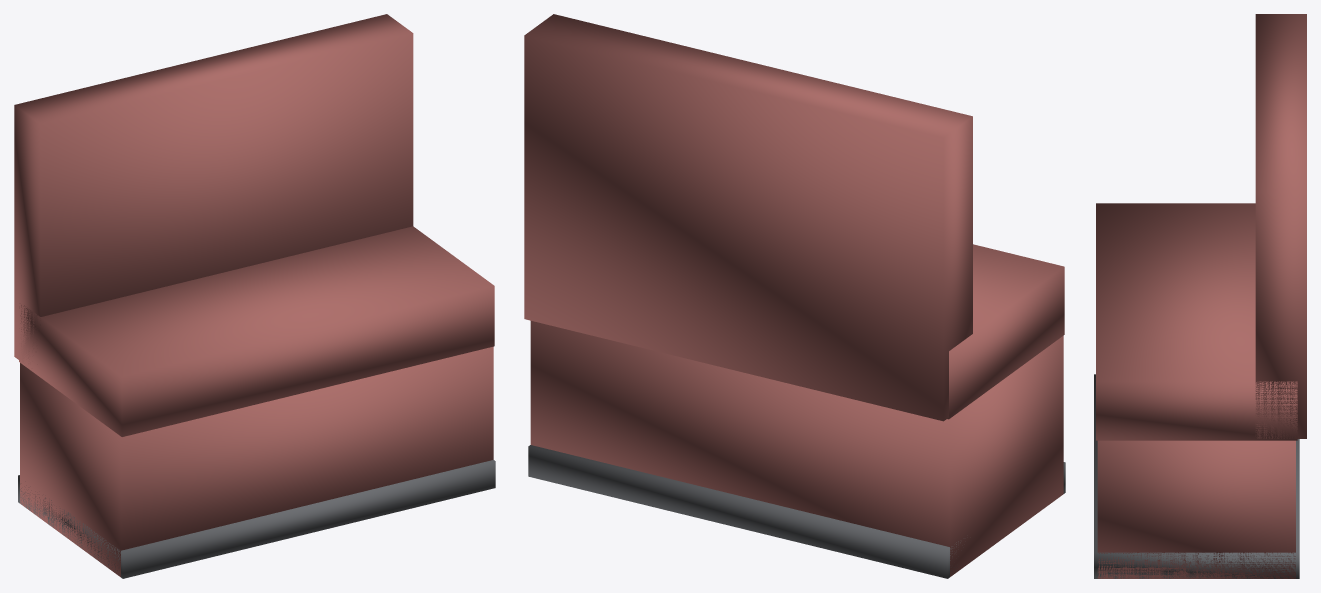
The model's file is diner_booth_single__reinforced.glb.
3 renders of one model, left to right at view 1: azimuth 30°, elevation 25°; view 2: azimuth 150°, elevation 25°; view 3: azimuth 270°, elevation 25°, orthographic. The views are drawn at different scales.
Parts seen in each view (by area): view 1: world; view 2: world; view 3: world.
Part boxes in pixels (x1,y1,x2,y2): world: [14, 14, 495, 578]; world: [524, 14, 1065, 578]; world: [1094, 14, 1306, 578].
Size of the model in its own units: 1.18 by 1.2 by 0.5974.
